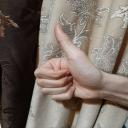ThumbsUp: (34, 22, 104, 109)
